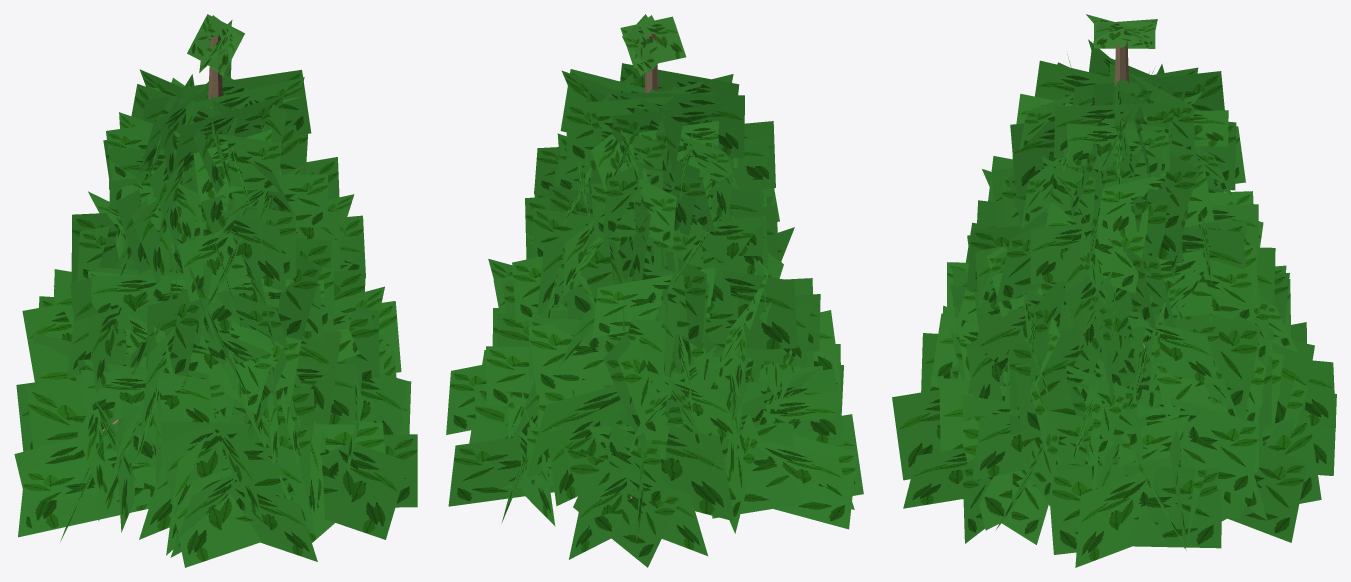
File: pino.glb
3 renders of one model, left to right at view 1: azimuth 30°, elevation 25°; view 2: azimuth 150°, elevation 25°; view 3: azimuth 270°, elevation 25°, orthographic. The views are drawn at different scales.
Parts seen in each view (by area): view 1: pino2; view 2: pino2; view 3: pino2.
Boxes of the visible parts, left/top/right/bottom form: pino2: left=14, top=14, right=417, bottom=567; pino2: left=446, top=14, right=863, bottom=567; pino2: left=892, top=14, right=1336, bottom=567.
Size of the model in its own units: 5.82 by 6.94 by 5.81.
2 materials, 1 textured.
